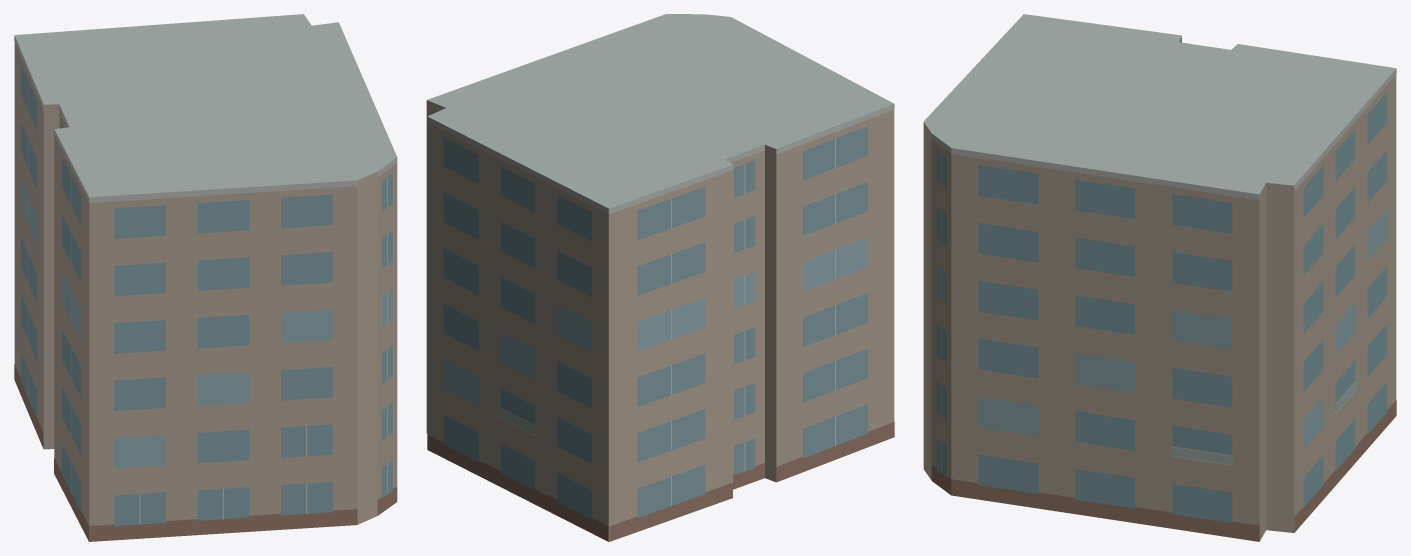
File: survey-upis-32962258.glb
3 views of the same model, side by side, from view 1: azimuth 30°, elevation 25°; view 2: azimuth 150°, elevation 25°; view 3: azimuth 270°, elevation 25° (orthographic). The views are drawn at different scales.
Parts seen in each view (by area): view 1: survey-upis-32962258.tmp; view 2: survey-upis-32962258.tmp; view 3: survey-upis-32962258.tmp.
Boxes of the visible parts, x1,y1,x2,y2 form: survey-upis-32962258.tmp: (14, 14, 397, 541); survey-upis-32962258.tmp: (426, 14, 894, 541); survey-upis-32962258.tmp: (923, 14, 1396, 541).
Bounding box in the file's own units: 16.05 × 14.4 × 17.78.
